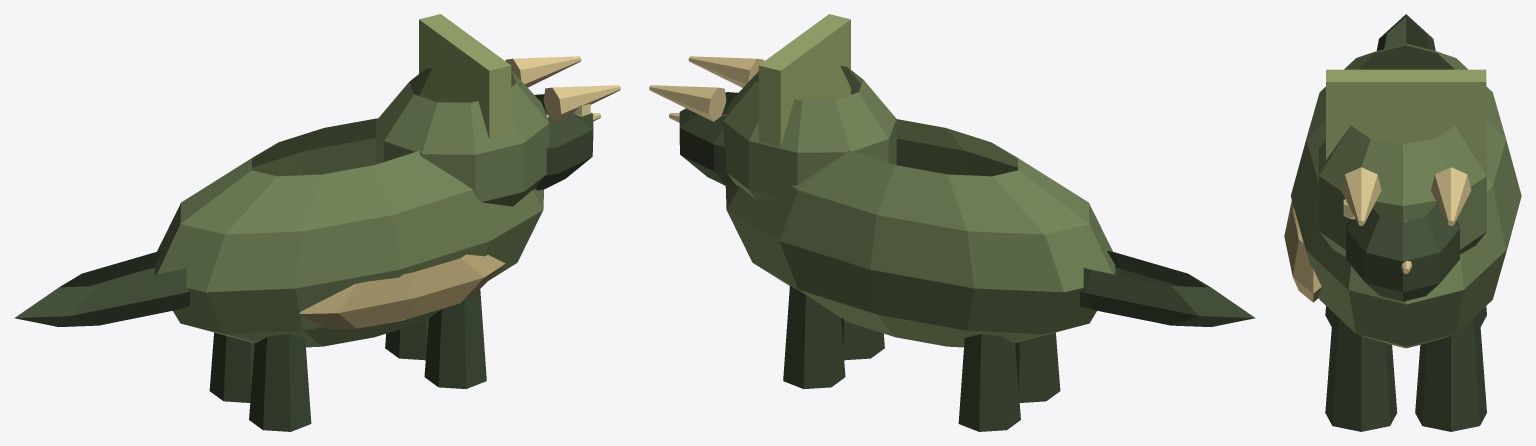
The model's file is triceratops.obj.
3 renders of one model, left to right at view 1: azimuth 30°, elevation 25°; view 2: azimuth 150°, elevation 25°; view 3: azimuth 270°, elevation 25°, orthographic. The views are drawn at different scales.
Parts seen in each view (by area): view 1: triceratops; view 2: triceratops; view 3: triceratops.
Boxes of the visible parts, x1,y1,x2,y2 form: triceratops: (14, 14, 620, 431); triceratops: (649, 14, 1255, 431); triceratops: (1284, 14, 1521, 431).
Size of the model in its own units: 4.81 by 2.45 by 1.48.
